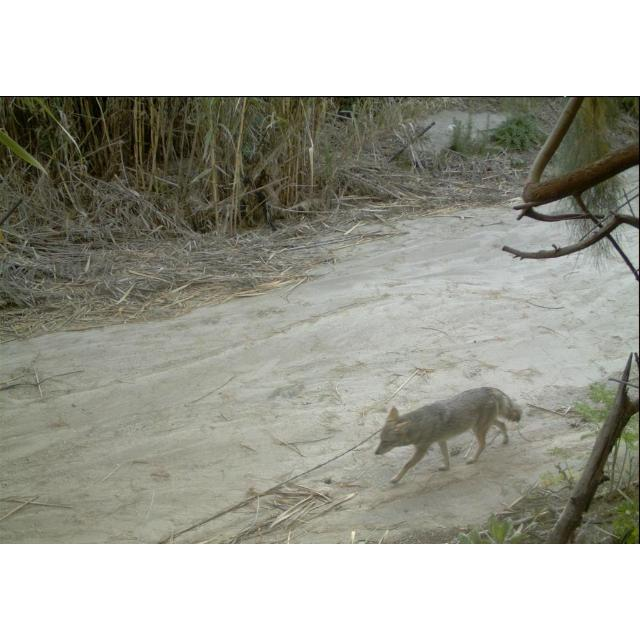animals: (372, 384, 526, 488)
